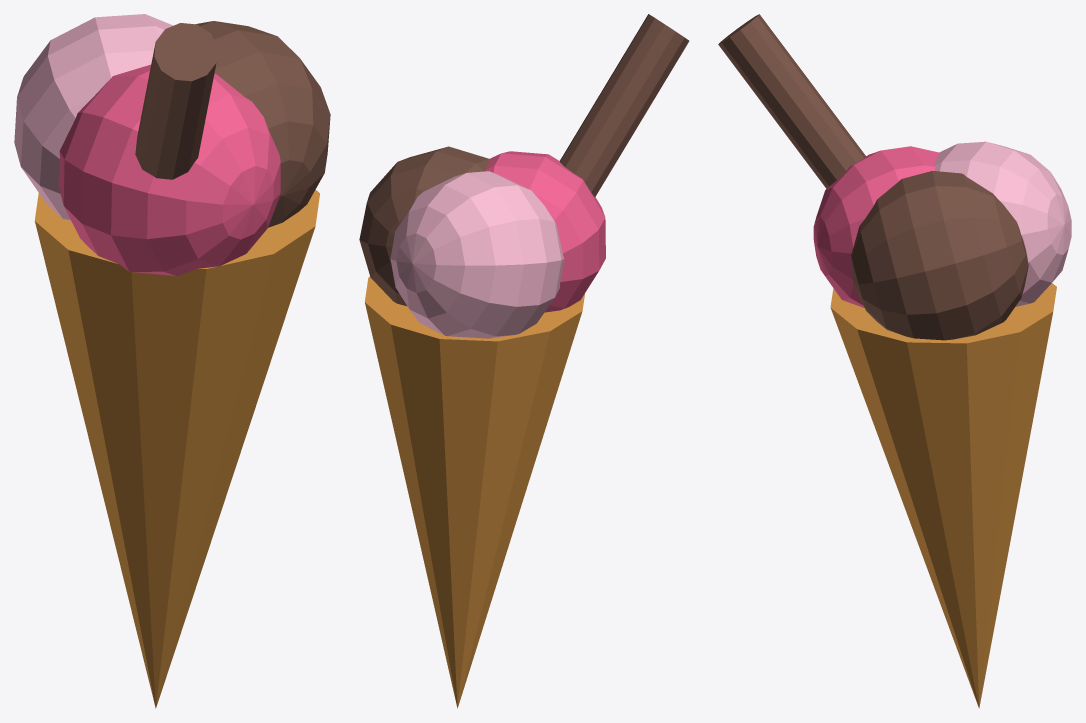
The model's file is icecream.obj.
The picture shows the model from 3 angles, left to right: view 1: azimuth 30°, elevation 25°; view 2: azimuth 150°, elevation 25°; view 3: azimuth 270°, elevation 25°; orthographic projection. The views are drawn at different scales.
Visible parts, largest first — view 1: group467216166, group1539256524, group215026429, group1056032818, group1170968414; view 2: group467216166, group215026429, group1170968414, group1539256524, group1056032818; view 3: group467216166, group1056032818, group1170968414, group215026429, group1539256524.
Part boxes in pixels (x1,y1,x2,y2): group467216166: (34, 189, 319, 708); group1539256524: (58, 64, 280, 276); group215026429: (14, 14, 173, 220); group1056032818: (195, 21, 330, 227); group1170968414: (135, 23, 217, 179); group467216166: (365, 276, 584, 708); group215026429: (390, 171, 564, 338); group1170968414: (560, 14, 689, 196); group1539256524: (486, 151, 605, 312); group1056032818: (359, 146, 489, 305); group467216166: (830, 283, 1056, 708); group1056032818: (851, 171, 1028, 340); group1170968414: (718, 14, 865, 188); group215026429: (934, 141, 1071, 306); group1539256524: (813, 146, 939, 307).
Size of the model in its own units: 0.2012 by 0.5567 by 0.2753.
